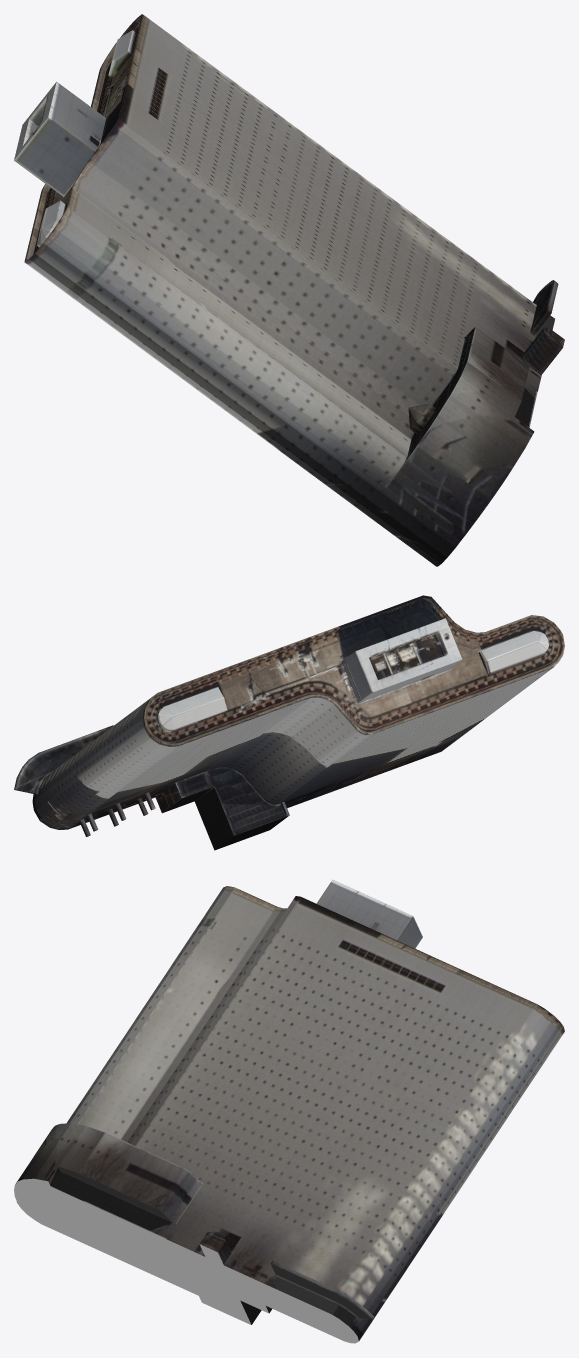
The model's file is 39549_bldg_Building.glb.
3 views of the same model, one above another, from view 1: azimuth 30°, elevation 25°; view 2: azimuth 150°, elevation 25°; view 3: azimuth 270°, elevation 25° (orthographic). The views are drawn at different scales.
Size of the model in its own units: 117 by 77.62 by 122.
Materials: 4 (3 with a texture image).
